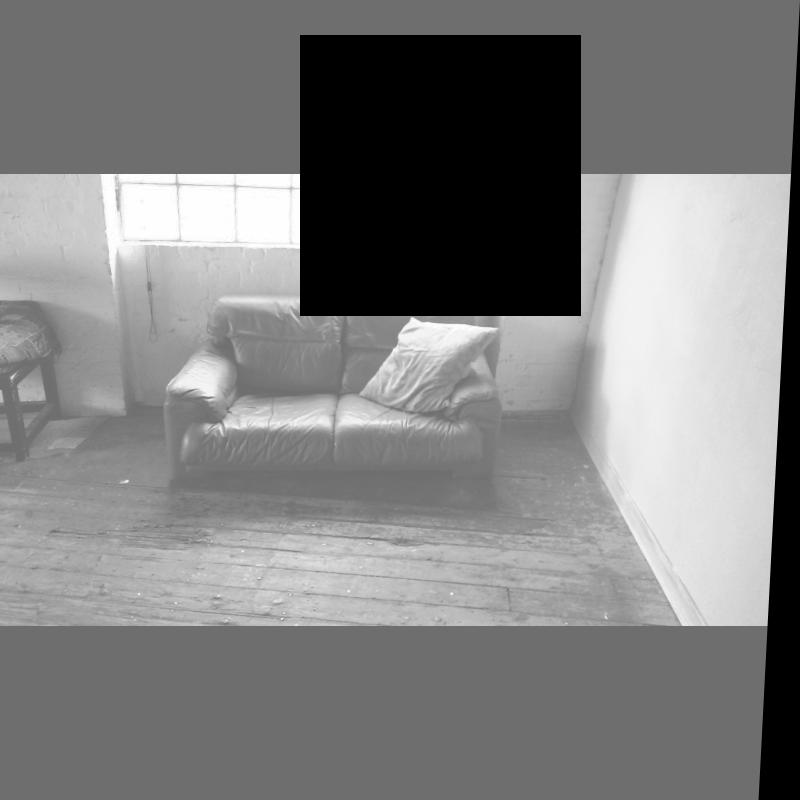pillow: (360, 316, 519, 400)
